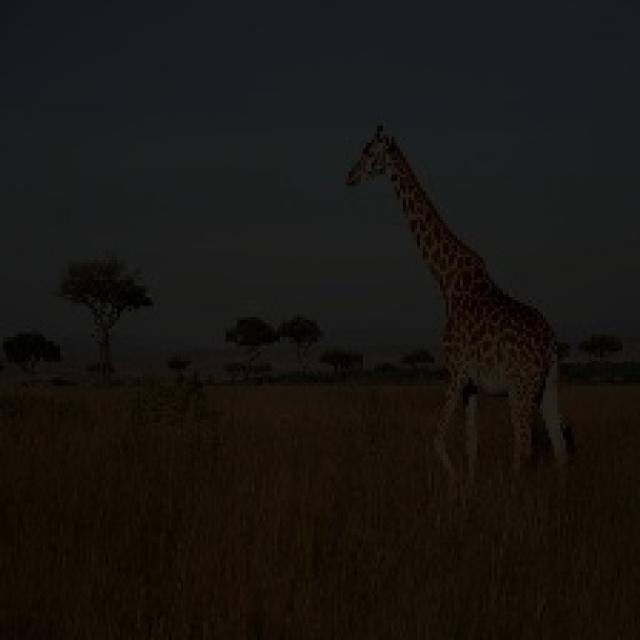bear: (326, 130, 614, 520)
